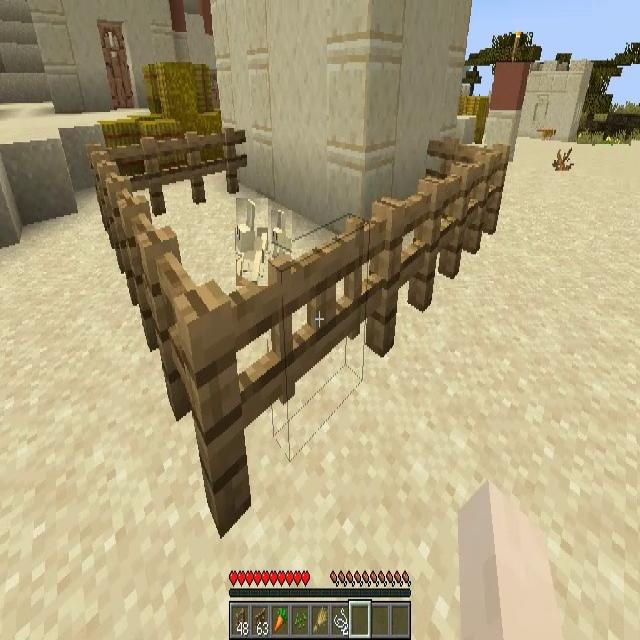rabbit: (236, 198, 268, 286), (271, 210, 292, 260)
